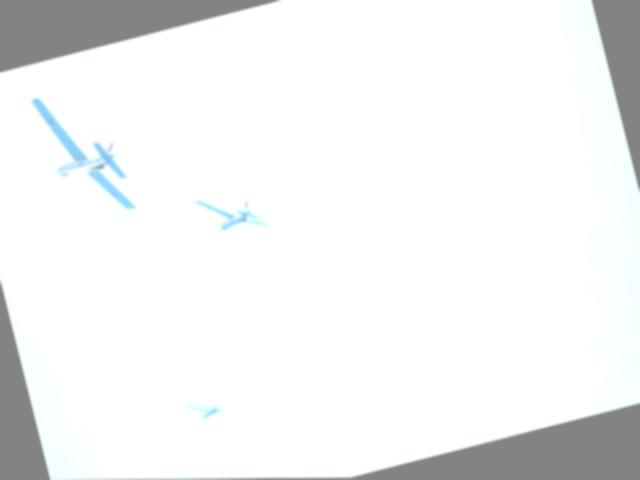uav: (29, 79, 140, 232), (191, 180, 274, 246), (183, 393, 233, 424)
